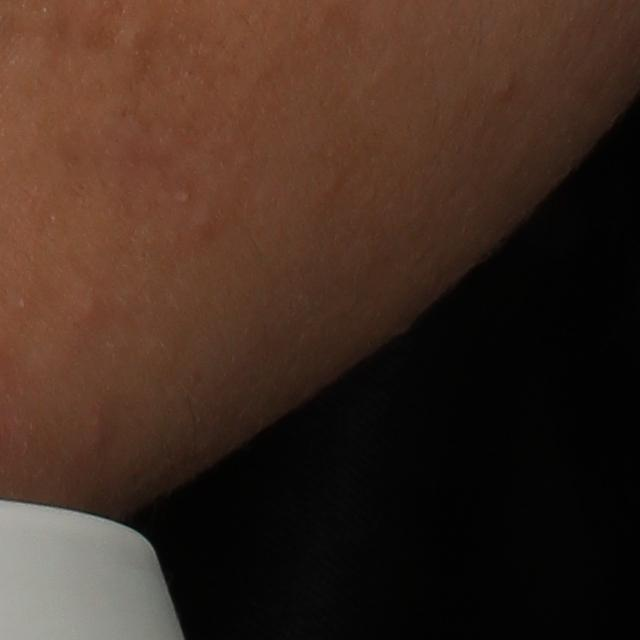comedo: (492, 70, 520, 107), (78, 297, 103, 320), (174, 188, 194, 208)
